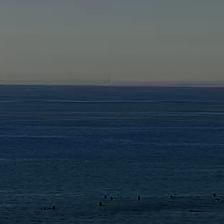surfer: (42, 207, 51, 211), (188, 209, 196, 212), (216, 197, 220, 201), (110, 196, 114, 200), (52, 205, 55, 210), (213, 193, 216, 197), (99, 202, 102, 206), (138, 195, 140, 200), (170, 195, 173, 198), (104, 195, 107, 198)
